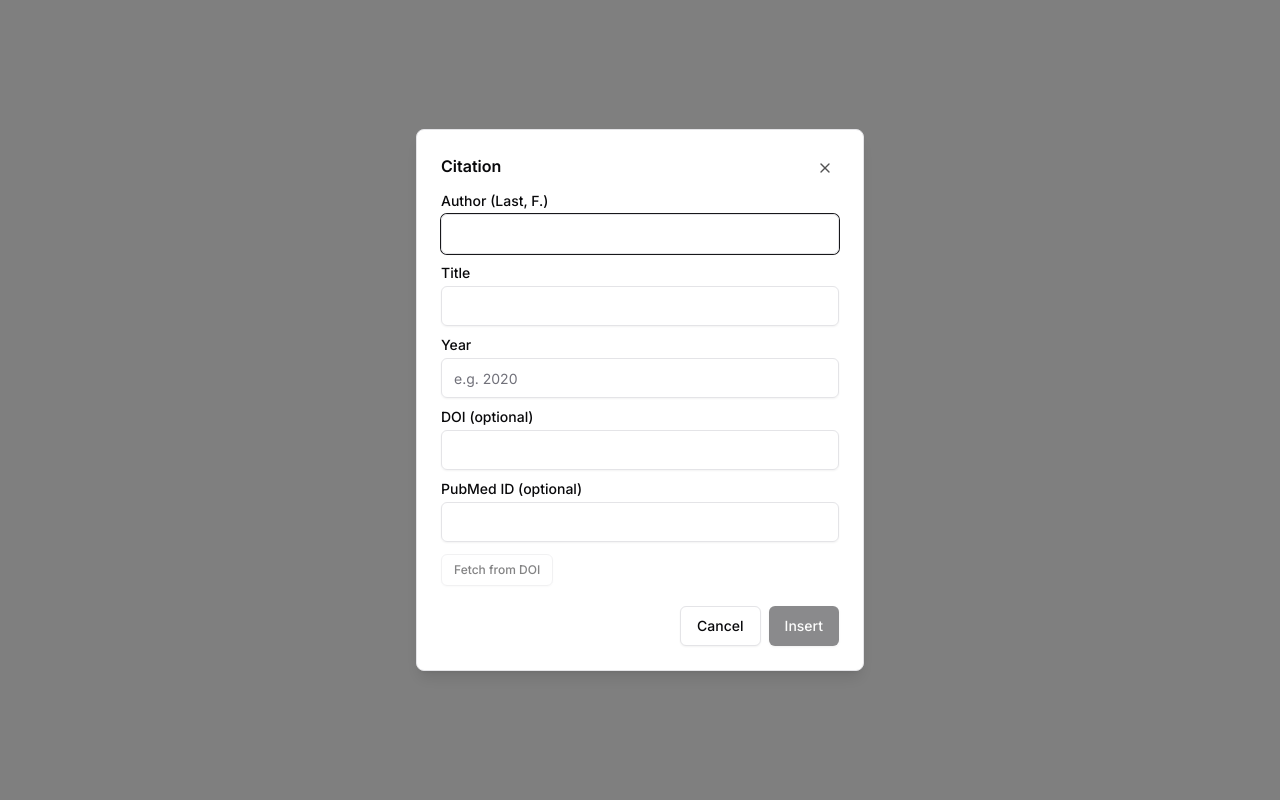
Test: manual citation modal DOI auto-fetch › fetches by DOI and populates author/title/year
The image size is (1280, 800).
In the field labelled "DOI (optional)": (640, 450) [441,430,839,470], type "10.1234/abc"
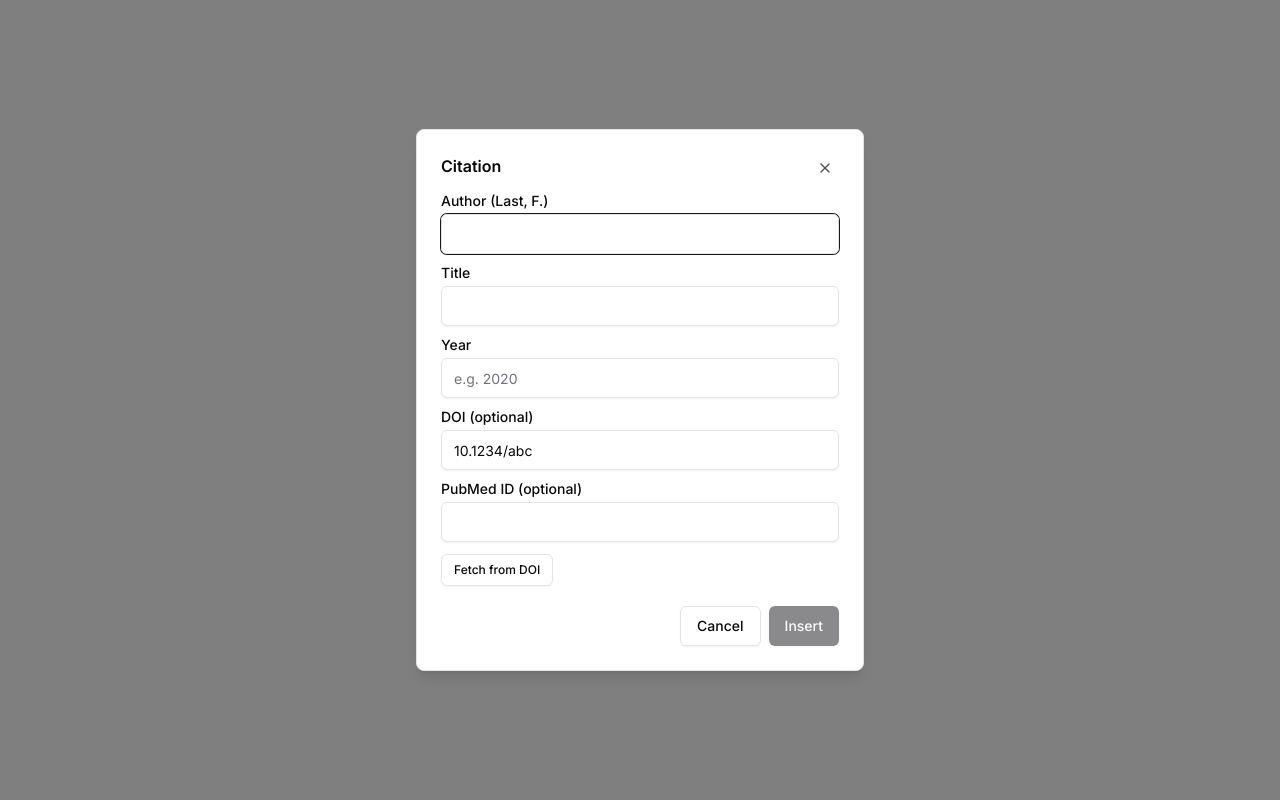
Click the button "Fetch from DOI": (497, 570) [441,554,553,586]
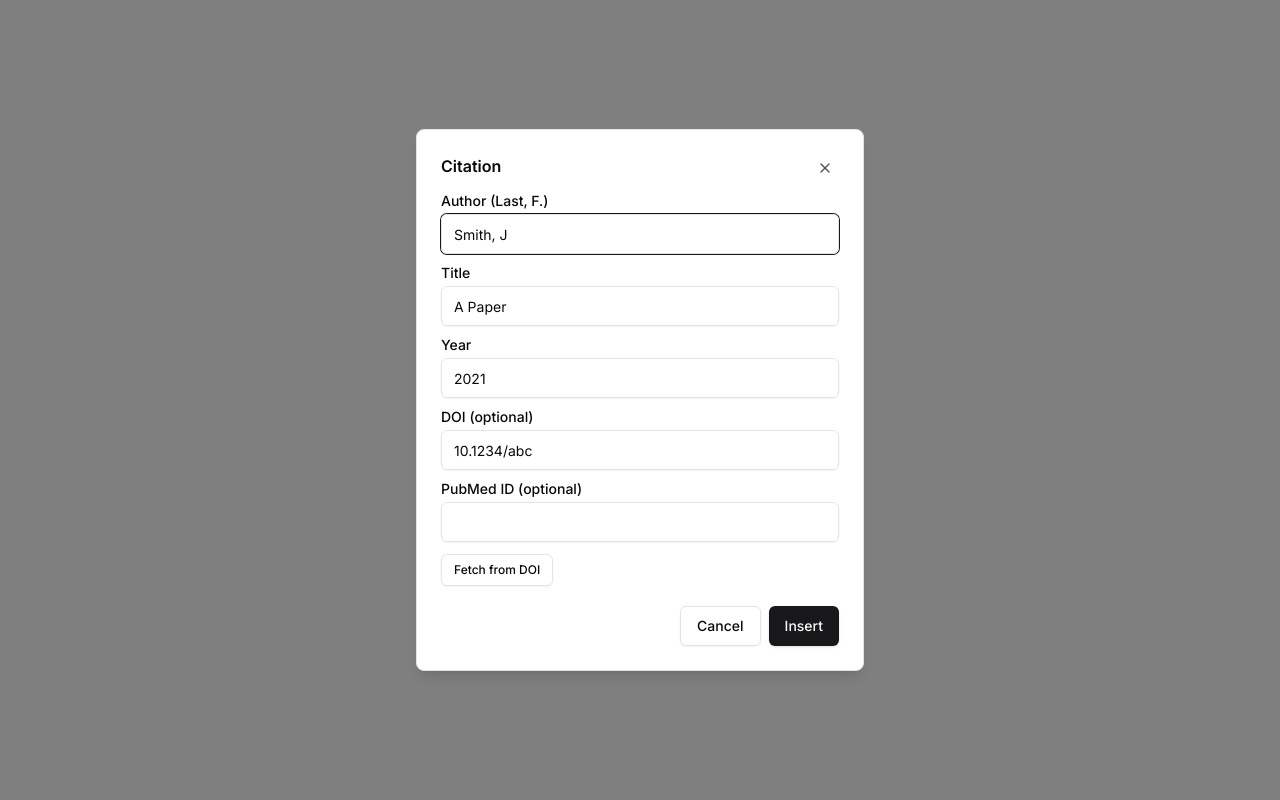
Expected: the field showing "Smith, J" is shown, [441,214,839,254]
Expected: the field showing "A Paper" is shown, [441,286,839,326]
Expected: the field showing "2021" is shown, [441,358,839,398]
